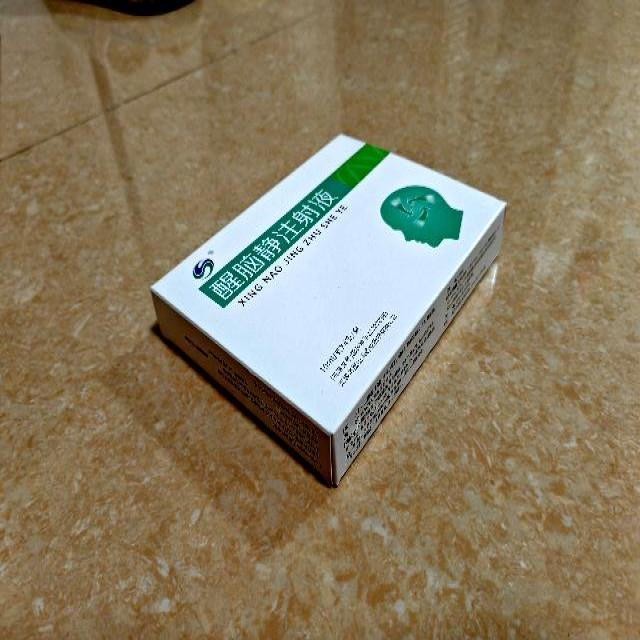box: (150, 132, 508, 490)
